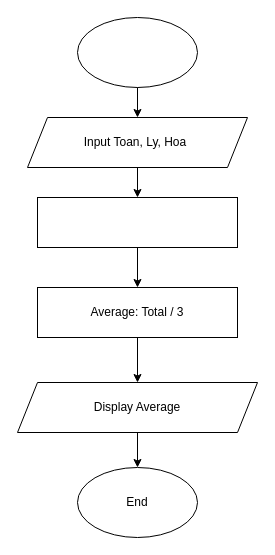
Image size: 275x555. Some labels were removed from this diagram. The centre of each missing label's shape, as x and y in pixels:
"Begin" goes at point 137,52.
"Total Toan, Ly, Hoa" goes at point 137,222.
